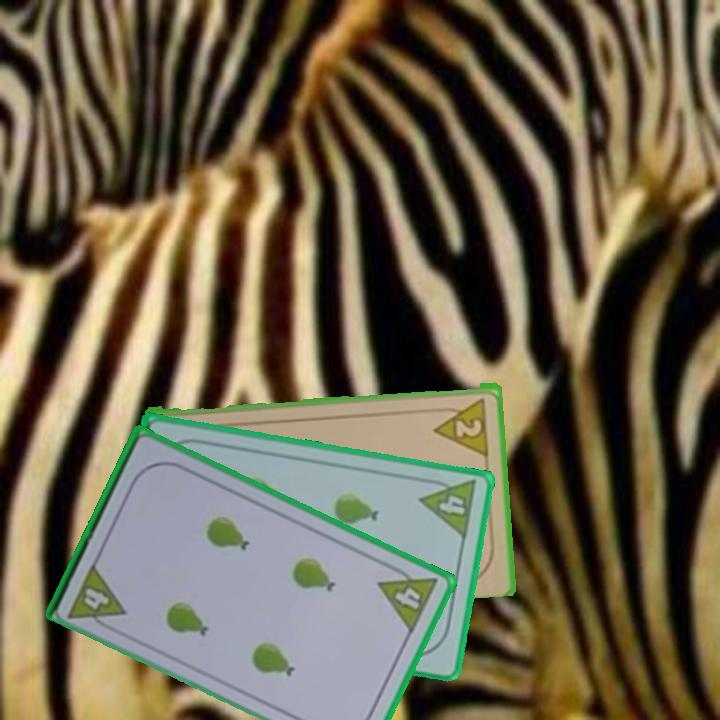2p: (430, 393, 492, 457)
4p: (374, 559, 441, 636), (65, 558, 129, 635), (416, 473, 479, 542)
